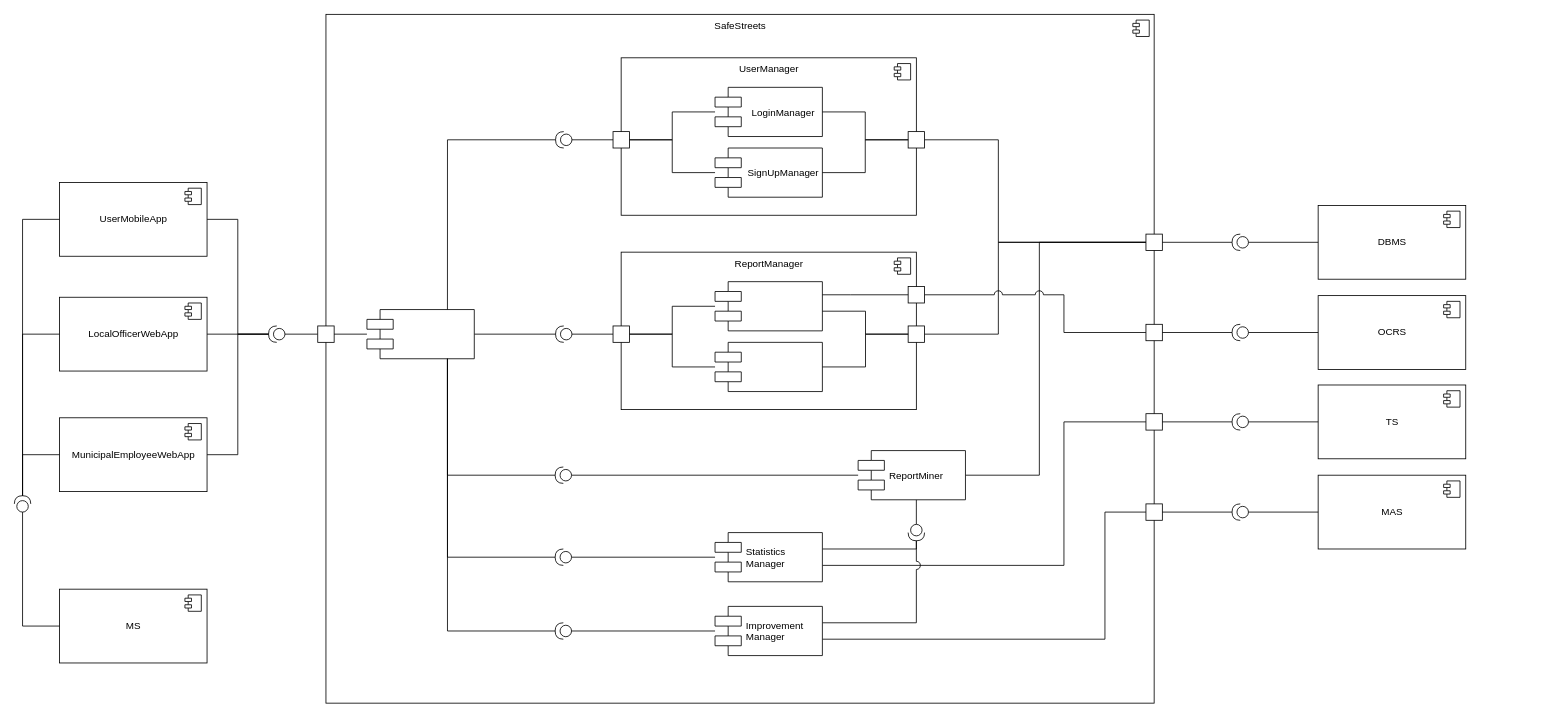
Some shapes in this 1562 by 718 pixel diagram are drawn without their labels. Here are the shapes that lost their labels. From the top down, the centre of each, then its label:
At point 768,306: "ReportReceiver".
At point 420,334: "Router".
At point 768,367: "ReportValidator".
